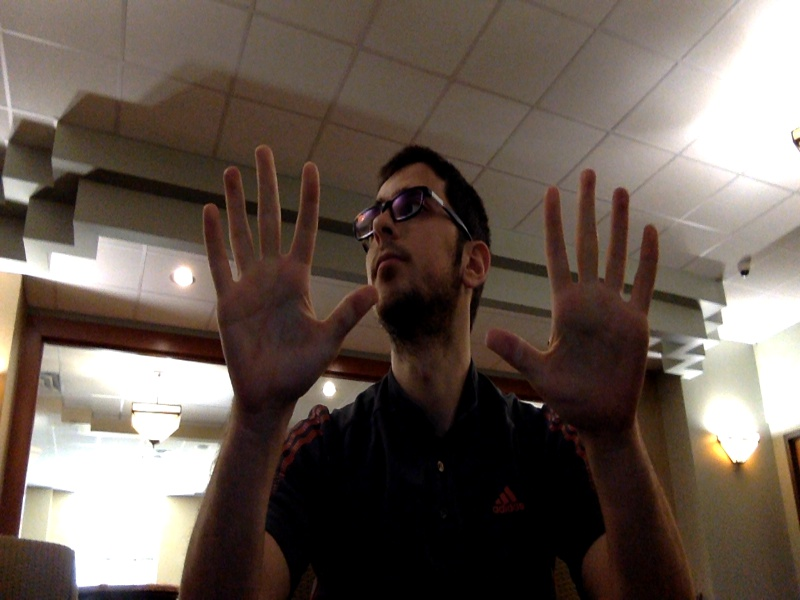5-hand: (486, 170, 660, 434), (202, 145, 378, 404)
